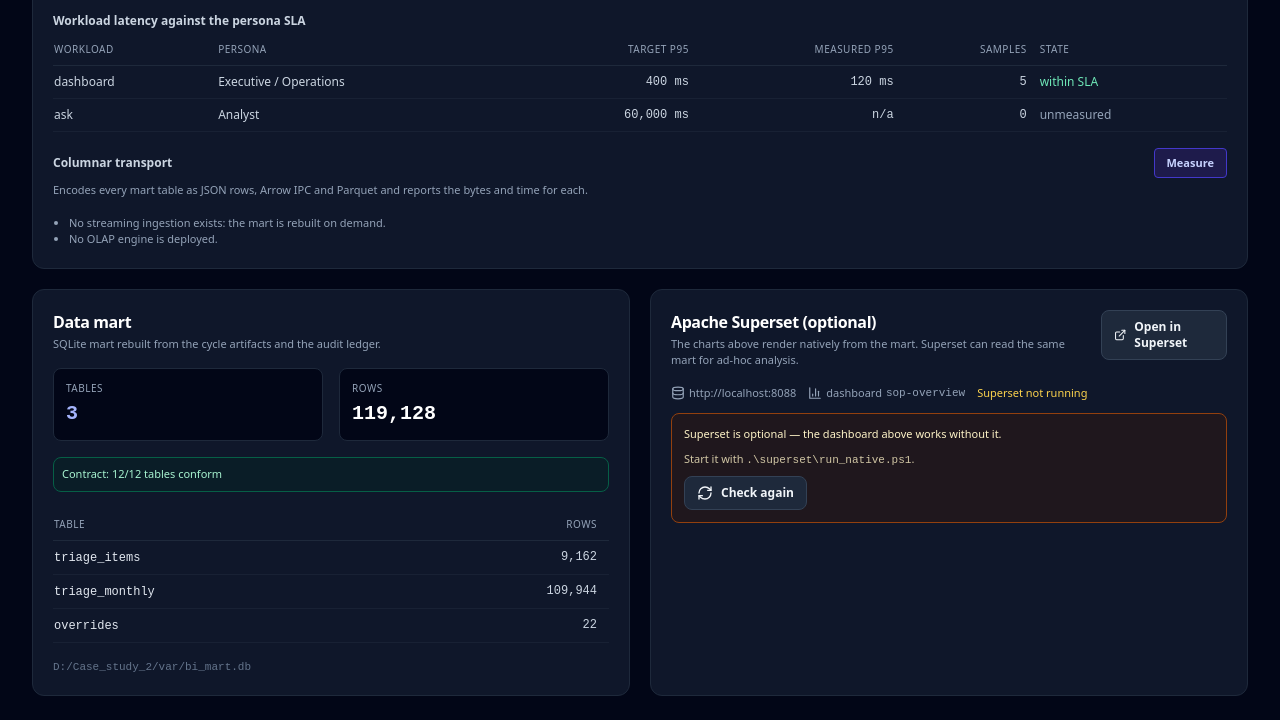
Test case: BiPage › check again re-probes Superset
The image size is (1280, 720).
(page scrolled)
Click the button with test id "bi-recheck-btn" at [746, 493], box [684,476,807,510]
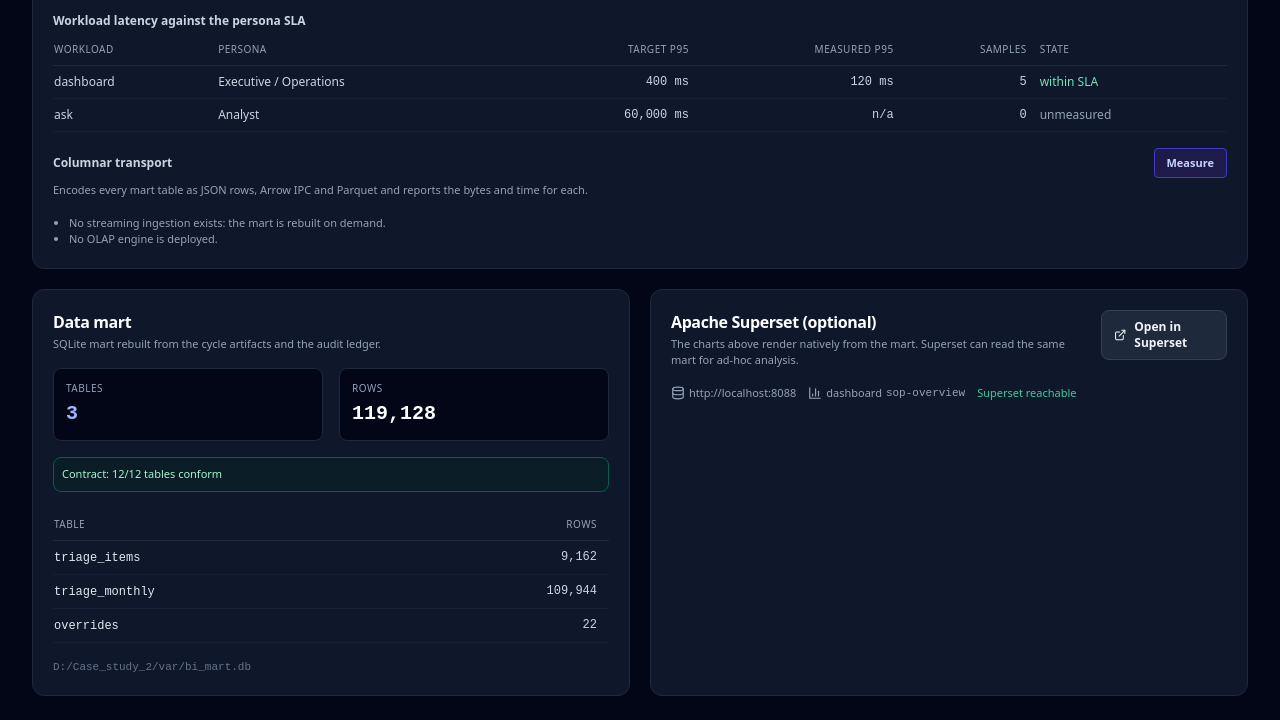
Now the element with test id "bi-superset-offline" is gone
